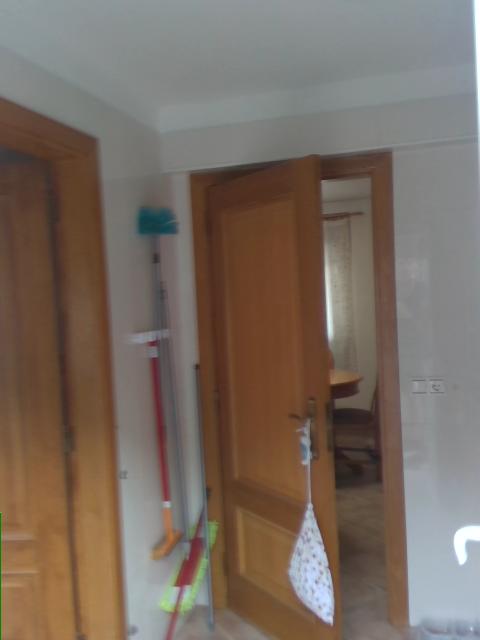semi: (193, 154, 411, 639)
